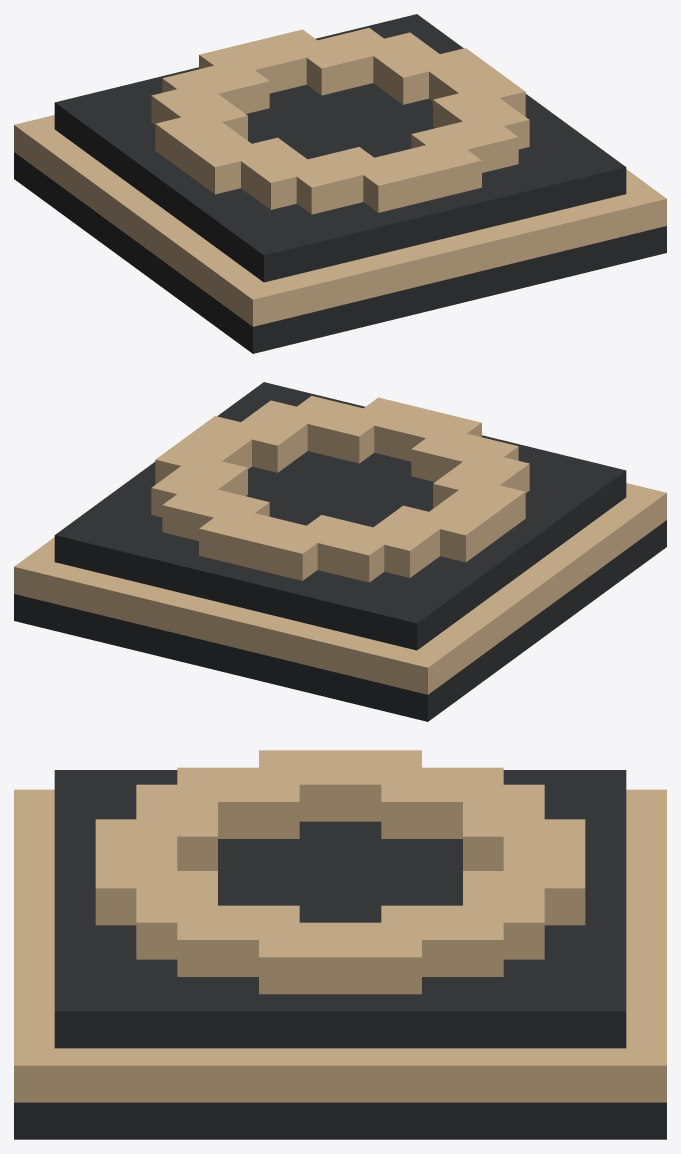
Rendered from o-v1-black-tan.gltf.
The picture shows the model from 3 angles, top to bottom: view 1: azimuth 30°, elevation 25°; view 2: azimuth 150°, elevation 25°; view 3: azimuth 270°, elevation 25°; orthographic projection. The views are drawn at different scales.
Visible parts, largest first — view 1: Untitled; view 2: Untitled; view 3: Untitled.
Boxes of the visible parts, x1,y1,x2,y2 form: Untitled: [14, 14, 666, 353]; Untitled: [14, 382, 666, 721]; Untitled: [14, 750, 666, 1139].
Size of the model in its own units: 1.6 by 0.4 by 1.6.
Materials: 1 (1 with a texture image).
